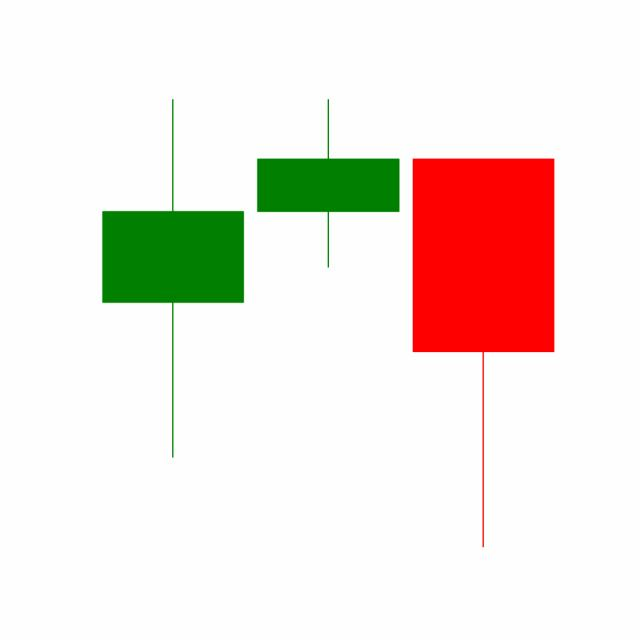Spinning Top: (249, 96, 406, 270)
